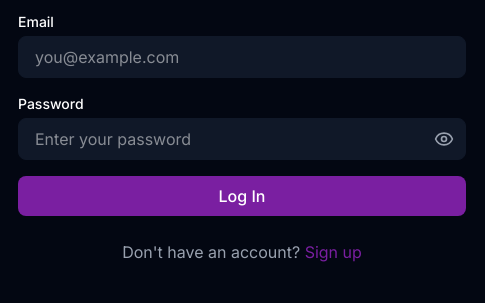
Test: LoginForm › shows error for invalid email format
Type "invalid-email" into the field labelled "Email" at (242, 57), box [18, 36, 466, 78]
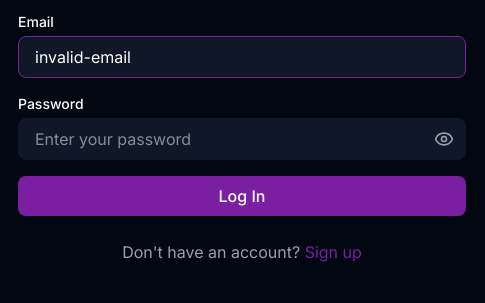
Type "password123" into the password field labelled "Password" at (242, 139), box [18, 118, 466, 160]
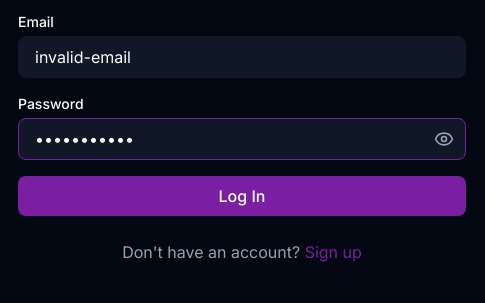
Click the button "Log In" at (242, 196), box [18, 176, 466, 216]
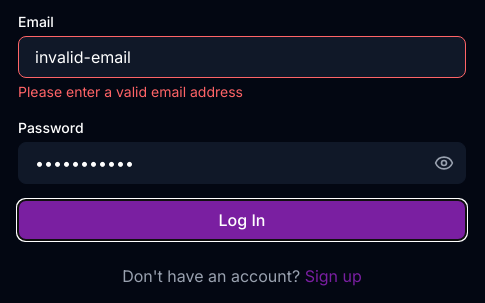
Expected: the text "Please enter a valid email address" is shown, [18, 83, 243, 100]
